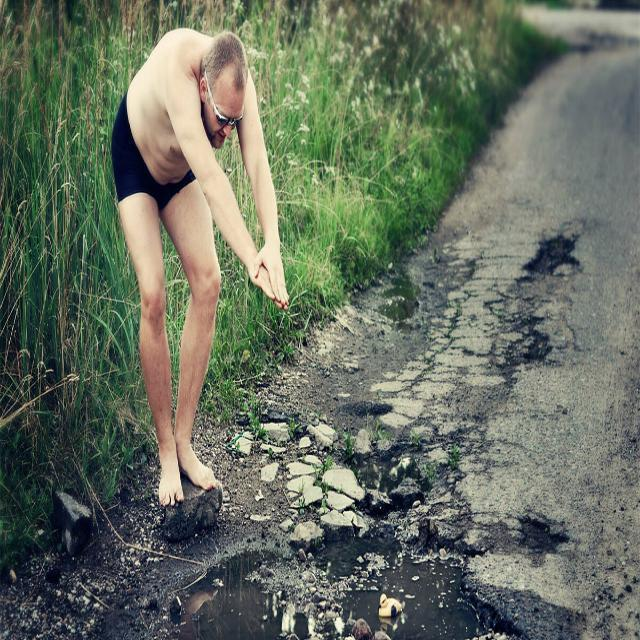Pothole: (81, 428, 533, 639)
